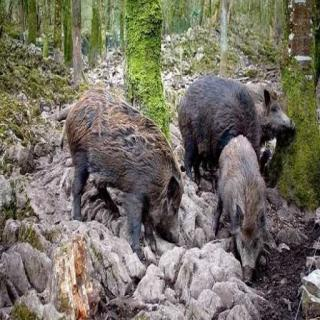Pig: (52, 65, 217, 243)
